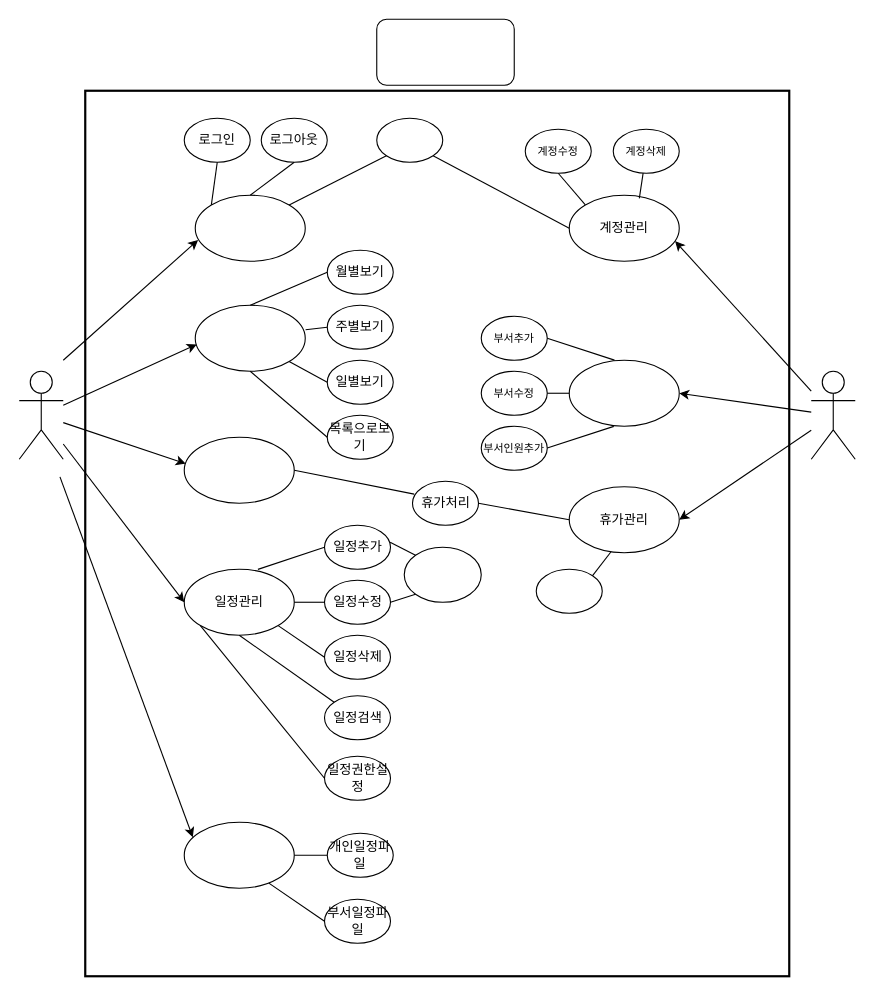
Some shapes in this 880 by 997 pixel diagram are drawn without their labels. Each missing label, with the box of its shape:
Calendar (System): (376, 18, 514, 85)
Company (관리자): (810, 370, 855, 459)
User (직원): (18, 370, 63, 459)
계정발급: (376, 117, 443, 162)
부서관리: (568, 359, 679, 426)
연차관리: (535, 568, 602, 613)
유저 정보: (194, 194, 305, 261)
일정카테고리화: (403, 546, 481, 602)
일정파일 변환: (183, 821, 294, 888)
캘린더 보기: (194, 304, 305, 371)
휴가신청: (183, 436, 294, 503)
